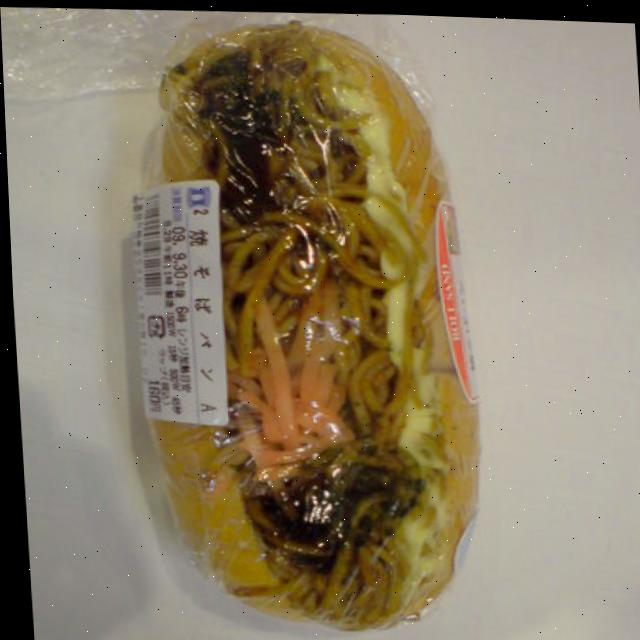三明治: (95, 20, 496, 629)
